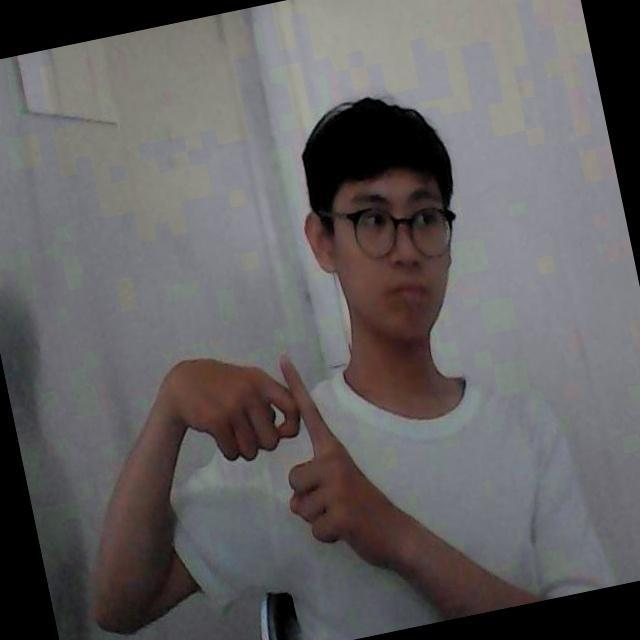K: (227, 336, 386, 546)
